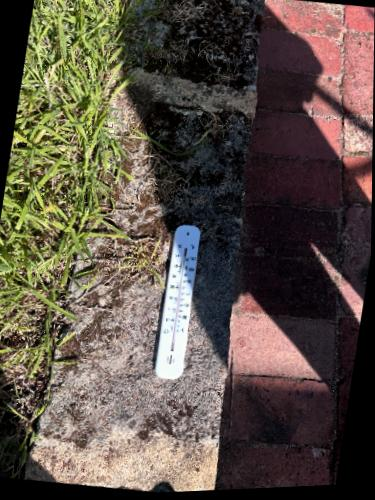thermo: (153, 223, 205, 382)
